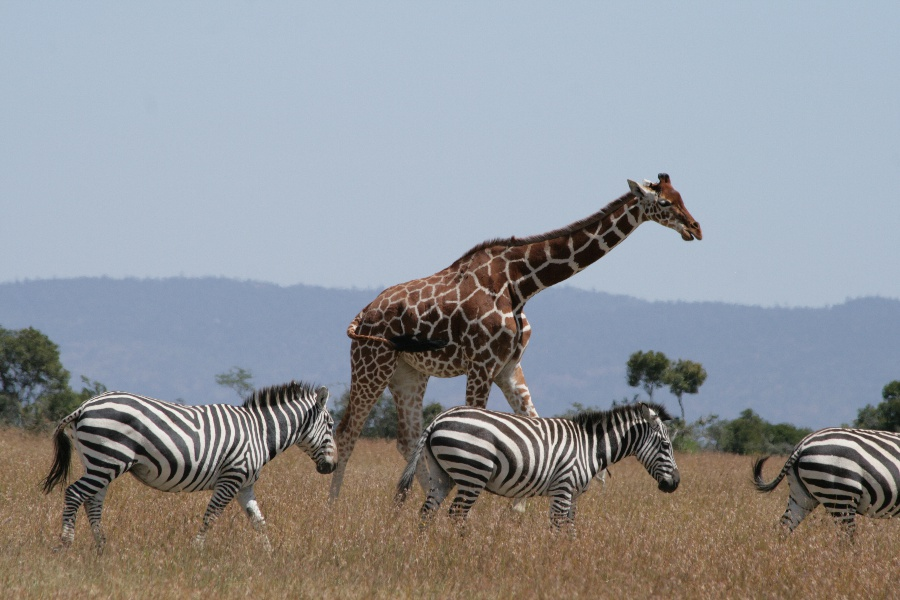giraffe: (346, 162, 707, 407)
